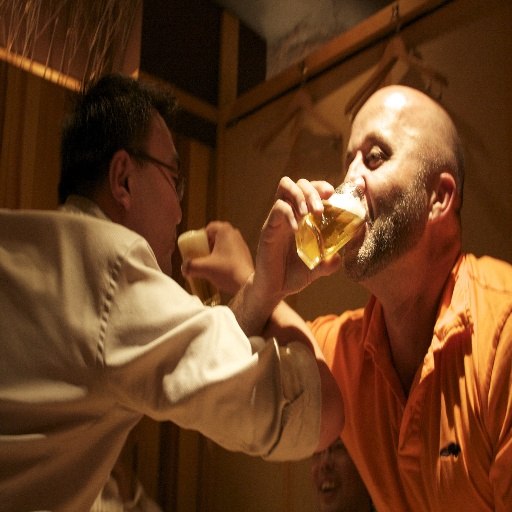hand: (254, 174, 342, 299), (175, 216, 262, 297)
